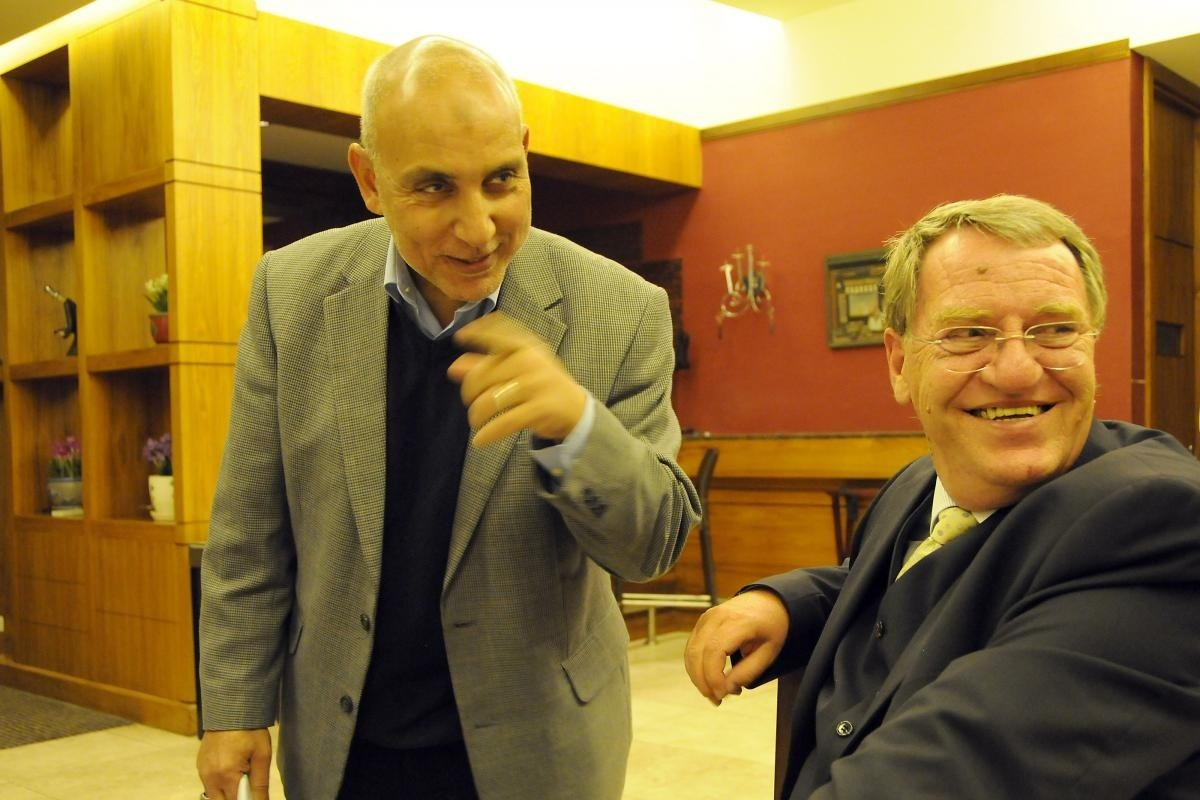face_no_mask: (886, 210, 1103, 492), (347, 32, 534, 299)
